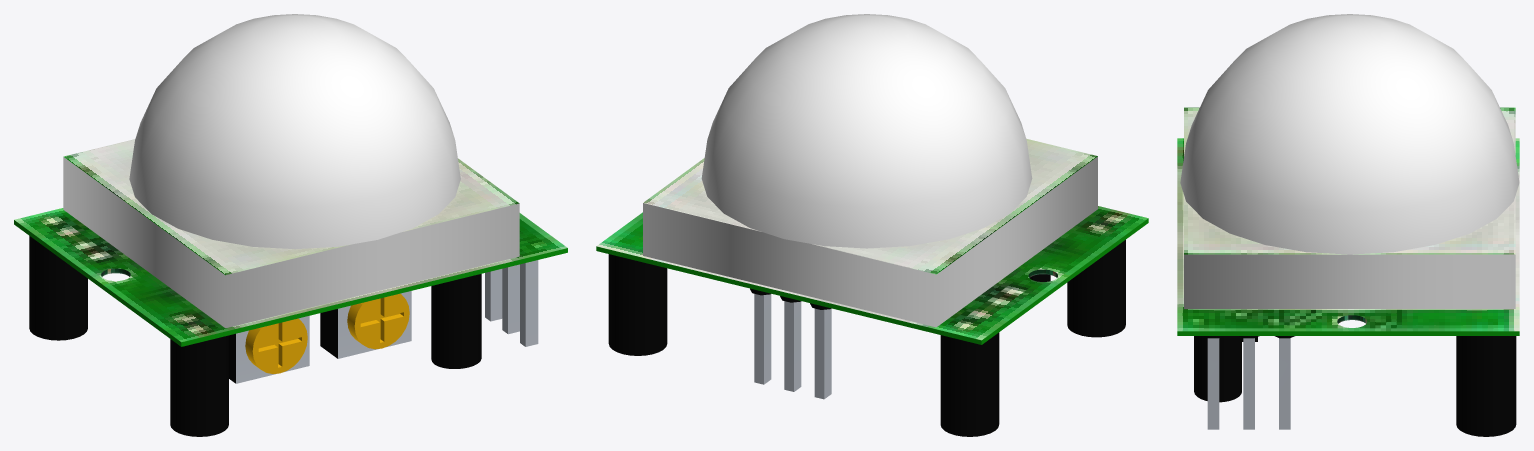
File: pir_sensor.glb
3 renders of one model, left to right at view 1: azimuth 30°, elevation 25°; view 2: azimuth 150°, elevation 25°; view 3: azimuth 270°, elevation 25°, orthographic. The views are drawn at different scales.
Visible parts, largest first — view 1: Material2 (×6), Material3; view 2: Material2 (×5), Material3; view 3: Material3, Material2 (×5).
Part boxes in pixels (bbox=[...]): Material2 (×6): bbox=[14, 139, 567, 436]; Material3: bbox=[129, 14, 460, 249]; Material2 (×5): bbox=[596, 138, 1148, 436]; Material3: bbox=[701, 14, 1032, 248]; Material3: bbox=[1180, 14, 1519, 254]; Material2 (×5): bbox=[1177, 107, 1519, 436].
Bounding box in the file's own units: 1.26 × 0.955 × 0.9449.
Materials: 11 (3 with a texture image).
